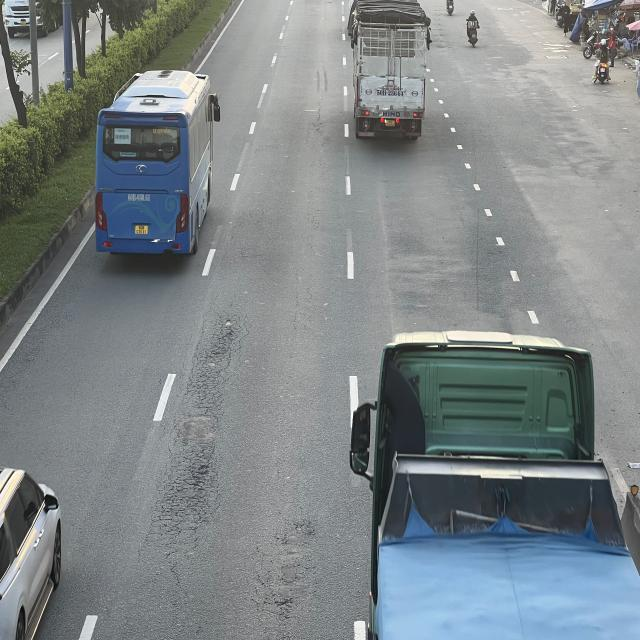car: (0, 466, 60, 639)
coach: (95, 69, 222, 258)
container: (348, 328, 639, 636)
truck: (348, 2, 428, 140)
